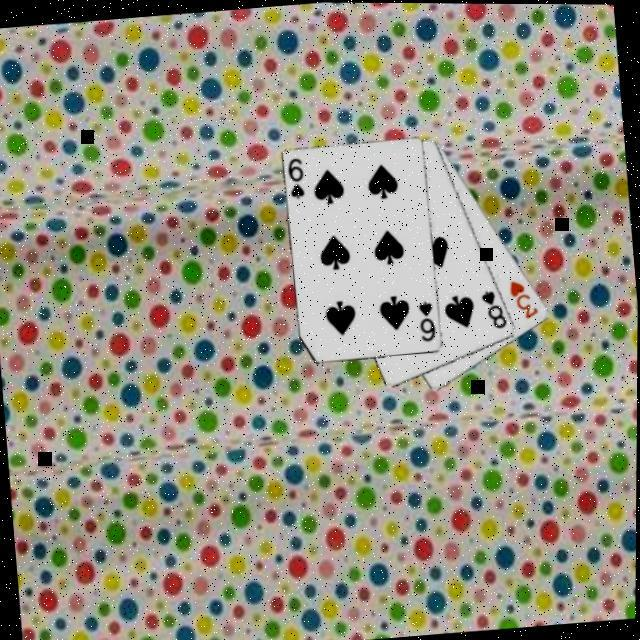3H: (508, 272, 544, 321)
6S: (416, 294, 441, 342), (286, 152, 310, 200)
8S: (479, 283, 512, 329)
